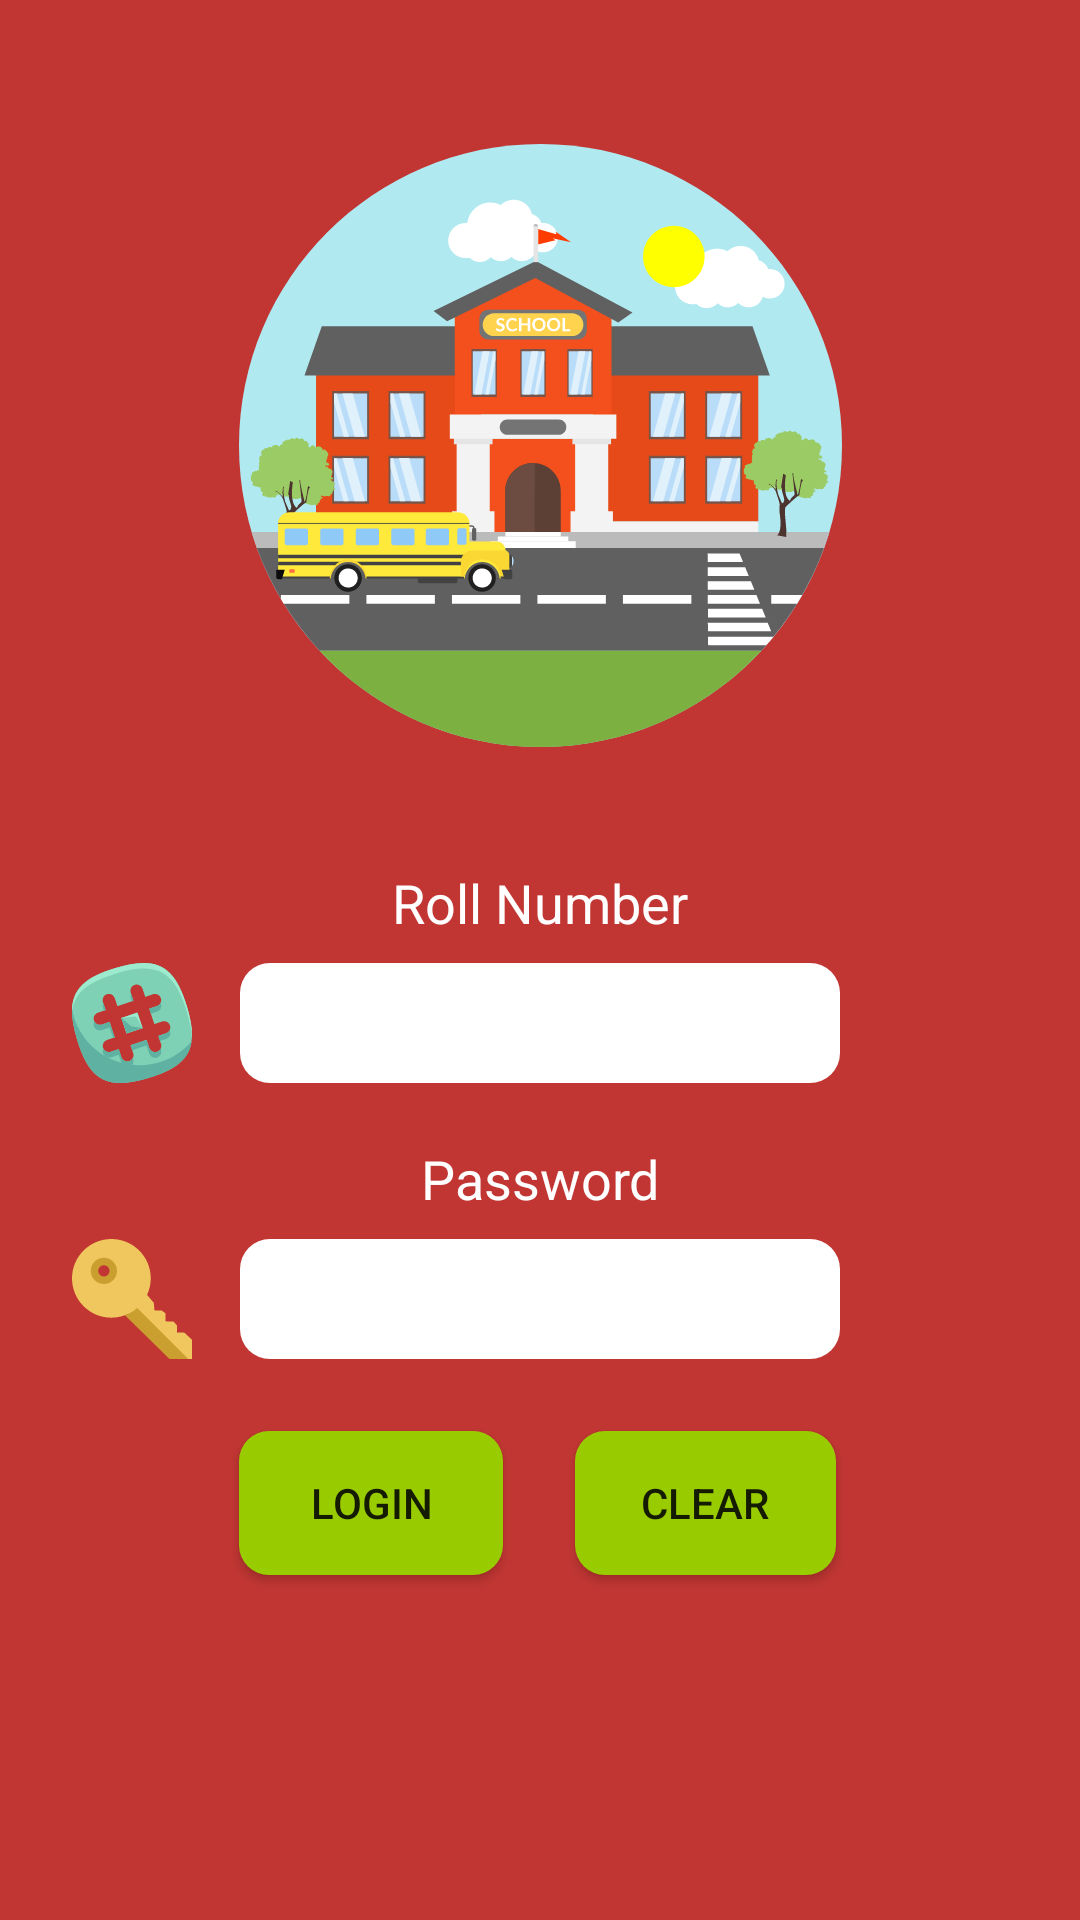

Locate icon controls on the screen. Image size 1080 x 1920, boxes as (x1, y1, x2, y2).
hashtag: (72, 963, 192, 1083)
key: (72, 1239, 192, 1359)
